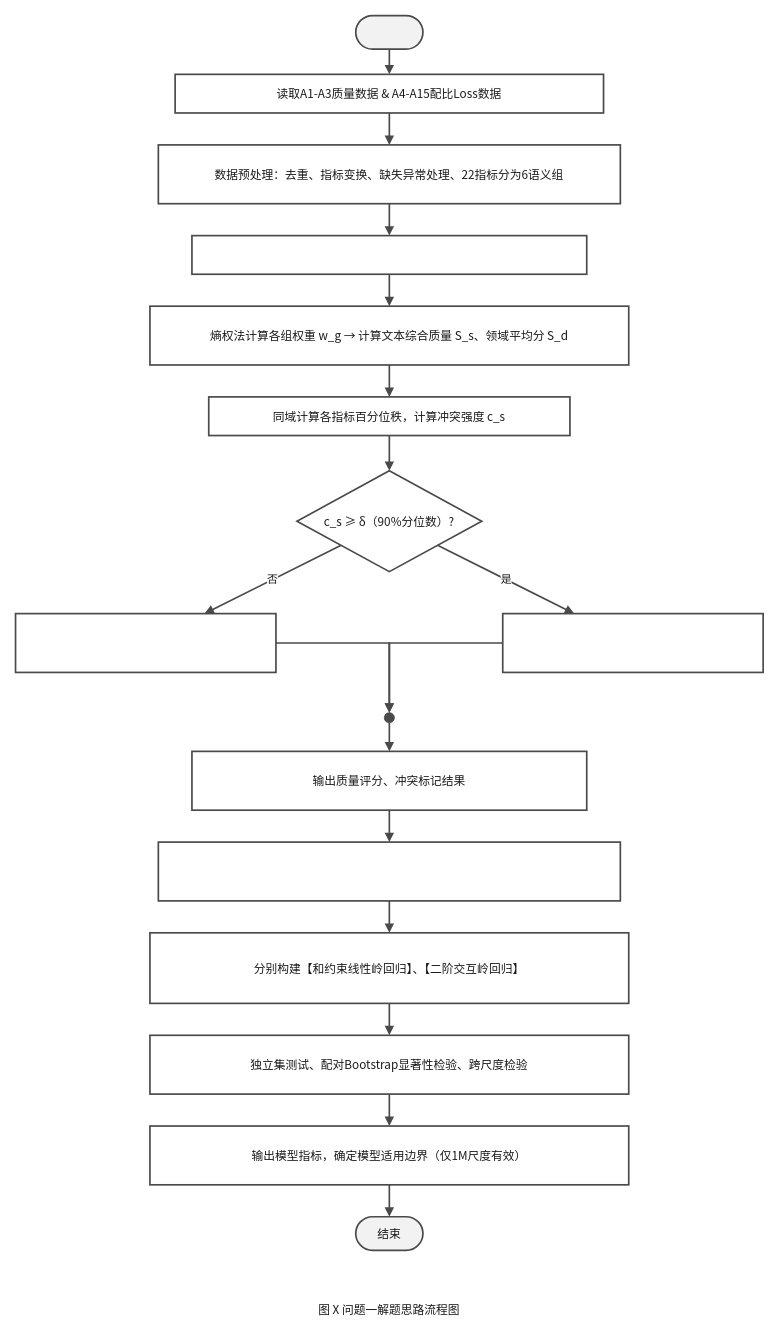
Some shapes in this 778 by 1336 pixel diagram are drawn without their labels. Here are the shapes that lost their labels. From the top down, the centre of each, then its label:
the point at 388,32: 开始
the point at 389,254: 组内取中位数得到6组组得分 G_sg
the point at 145,642: 直接使用综合评分 S_s
the point at 632,642: 计算稳健秩评分 S_s*，标记冲突样本
the point at 389,871: 配比预处理：归一化配比满足和为1；划分训练集/测试集/外推集
